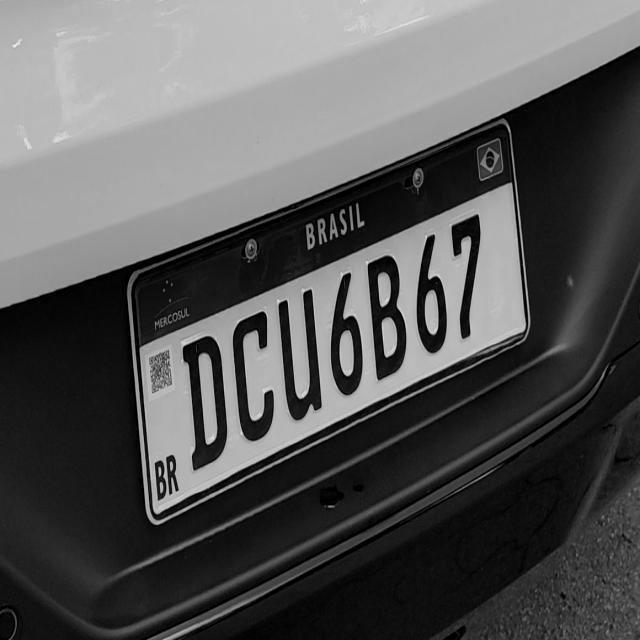placa_mercosul: (132, 117, 532, 523)
